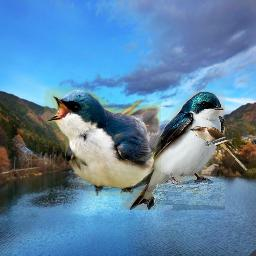Cuckoo: (189, 126, 248, 171)
Swallow: (44, 86, 161, 196), (120, 91, 225, 210)
